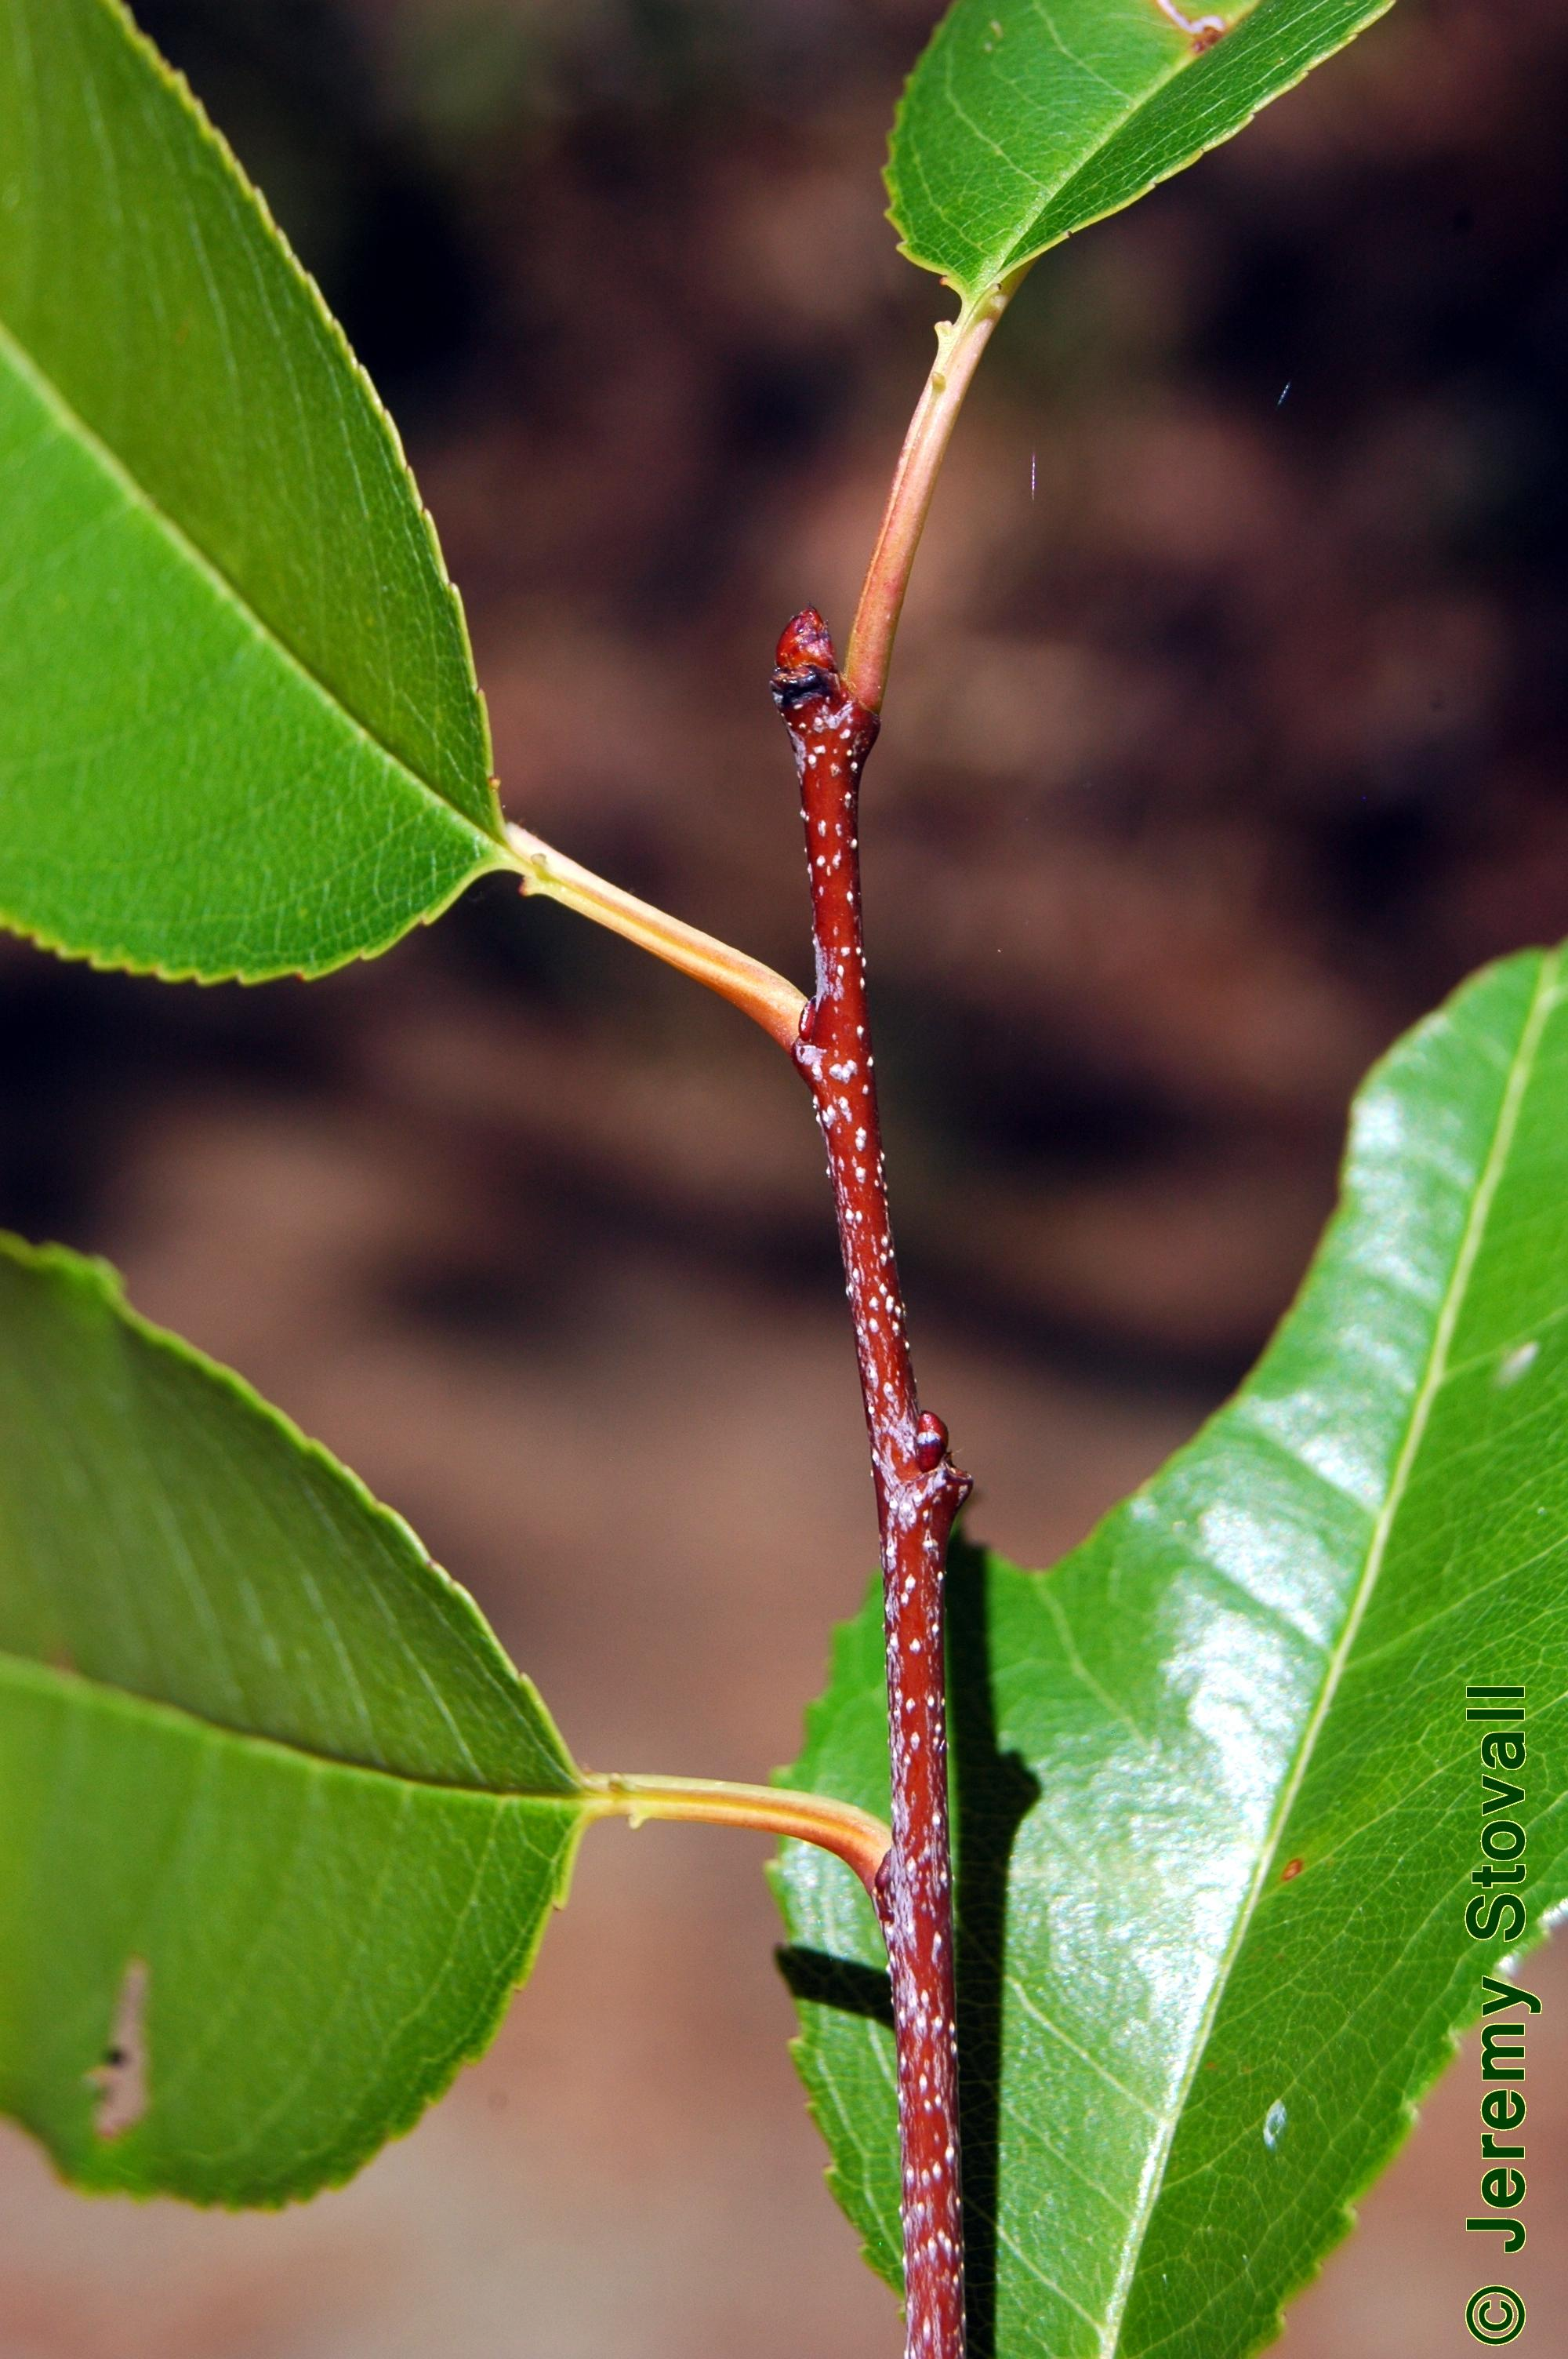Cherry leaf: (710, 854, 1551, 2341), (21, 0, 632, 991)
